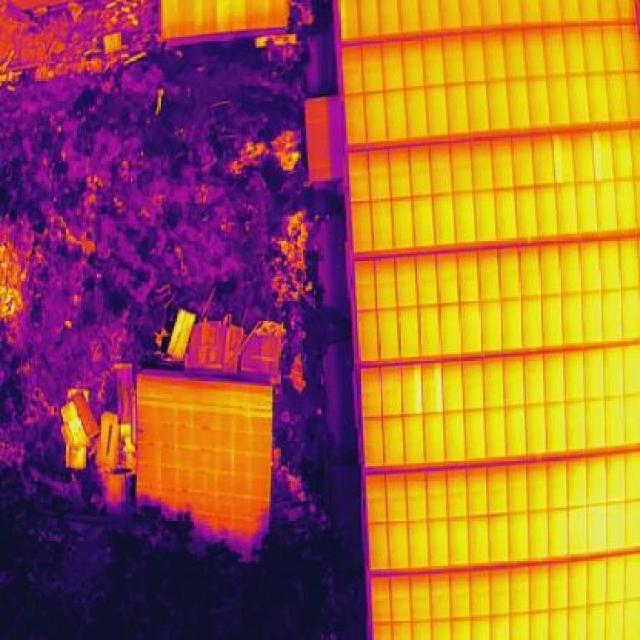diode: (550, 131, 562, 186), (590, 126, 602, 179), (411, 358, 423, 411), (434, 362, 444, 410)
